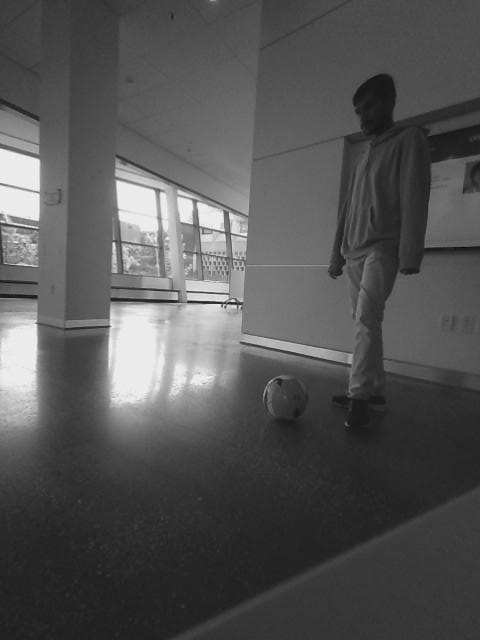ball: (259, 373, 310, 425)
